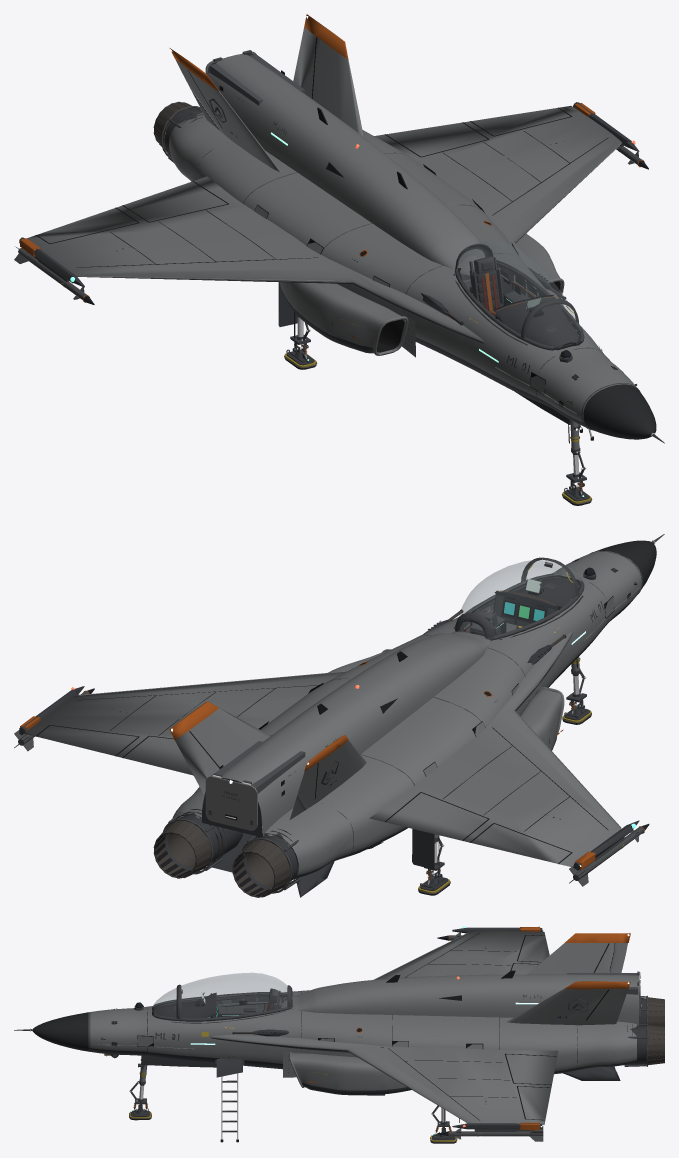
File: MilanFern.glb
3 views of the same model, one above another, from view 1: azimuth 30°, elevation 25°; view 2: azimuth 150°, elevation 25°; view 3: azimuth 270°, elevation 25° (orthographic). The views are drawn at different scales.
Parts seen in each view (by area): view 1: Einlaufschaufel links.001, Kanzelglas.001, Rumpf.004, Blendschutzdeck.001, Hauptfuge.005, Bauchflosse links.001, Holmfuge.004, Abstandshalter.006, Einlauflippe.002, Absaugloch.040, Seitenleitwerk links.001, Brennkammer.002 (+3 smaller); view 2: Einlaufschaufel links.001, Kanzelglas.001, Brennkammer.002, Abstandshalter.006, Klappe.013, Hauptfuge.005, Holmfuge.004, Bauchflosse links.001, Blendschutzdeck.001, Absaugloch.040, Rumpf.004, Seitenleitwerk links.001 (+6 smaller); view 3: Einlaufschaufel links.001, Kanzelglas.001, Bauchflosse links.001, Abstandshalter.006, Rumpf.004, Hauptfuge.005, Brennkammer.002, Blendschutzdeck.001, Holmfuge.004, Seitenleitwerk links.001, Canard.008, Klappe.014 (+5 smaller).
Boxes of the visible parts, bbox=[...] form: Einlaufschaufel links.001: bbox=[27, 27, 636, 422]; Kanzelglas.001: bbox=[458, 240, 581, 347]; Rumpf.004: bbox=[583, 384, 656, 439]; Blendschutzdeck.001: bbox=[453, 265, 583, 347]; Hauptfuge.005: bbox=[196, 142, 639, 429]; Bauchflosse links.001: bbox=[77, 161, 602, 430]; Holmfuge.004: bbox=[35, 38, 609, 394]; Abstandshalter.006: bbox=[19, 53, 639, 362]; Einlauflippe.002: bbox=[78, 143, 621, 413]; Absaugloch.040: bbox=[164, 70, 636, 407]; Seitenleitwerk links.001: bbox=[169, 14, 348, 90]; Brennkammer.002: bbox=[153, 101, 616, 405]; Einlaufschaufel links.001: bbox=[25, 550, 642, 875]; Kanzelglas.001: bbox=[459, 560, 580, 637]; Brennkammer.002: bbox=[153, 559, 630, 897]; Abstandshalter.006: bbox=[19, 574, 639, 889]; Klappe.013: bbox=[205, 776, 257, 830]; Hauptfuge.005: bbox=[270, 550, 642, 856]; Holmfuge.004: bbox=[36, 596, 614, 864]; Bauchflosse links.001: bbox=[187, 581, 639, 897]; Blendschutzdeck.001: bbox=[453, 577, 583, 639]; Absaugloch.040: bbox=[155, 559, 636, 896]; Rumpf.004: bbox=[592, 540, 656, 589]; Seitenleitwerk links.001: bbox=[169, 701, 348, 771]; Einlaufschaufel links.001: bbox=[88, 930, 638, 1124]; Kanzelglas.001: bbox=[152, 973, 294, 1017]; Bauchflosse links.001: bbox=[88, 1037, 636, 1100]; Abstandshalter.006: bbox=[110, 927, 646, 1129]; Rumpf.004: bbox=[32, 1012, 88, 1051]; Hauptfuge.005: bbox=[89, 984, 577, 1070]; Brennkammer.002: bbox=[104, 997, 664, 1065]; Blendschutzdeck.001: bbox=[156, 992, 285, 1023]; Holmfuge.004: bbox=[137, 933, 609, 1120]; Seitenleitwerk links.001: bbox=[565, 933, 630, 989]; Canard.008: bbox=[449, 930, 543, 1141]; Klappe.014: bbox=[137, 1036, 482, 1077].
Bounding box in the file's own units: 11.55 × 4.28 × 15.82.
